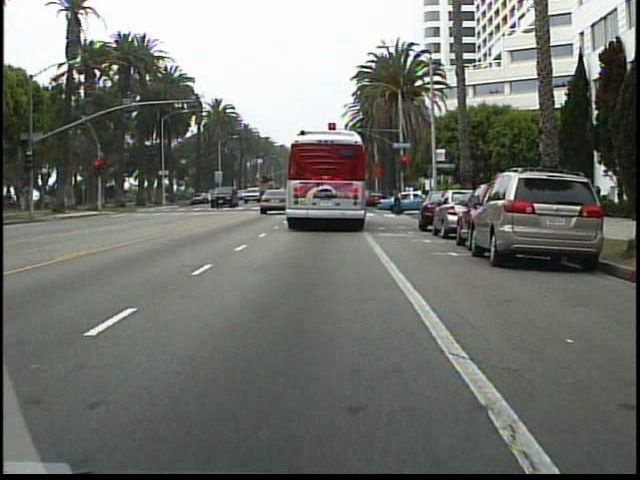person: (387, 184, 405, 216)
